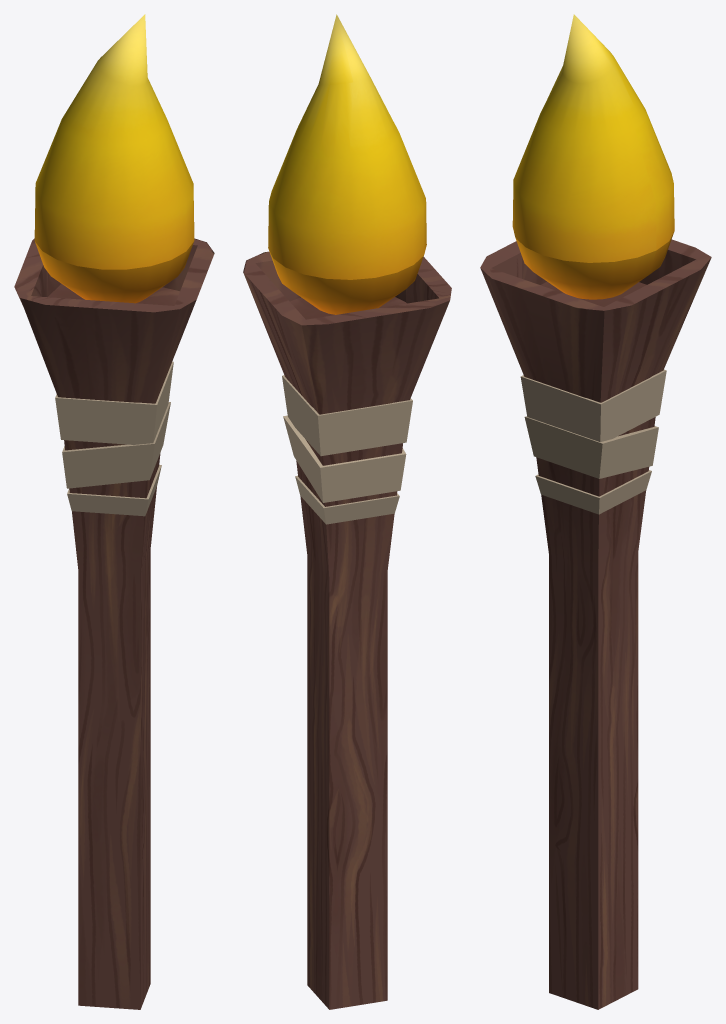
File: torch.gltf
3 renders of one model, left to right at view 1: azimuth 30°, elevation 25°; view 2: azimuth 150°, elevation 25°; view 3: azimuth 270°, elevation 25°, orthographic. The views are drawn at different scales.
Parts seen in each view (by area): view 1: Torch; view 2: Torch; view 3: Torch.
Part boxes in pixels (<box>): Torch: <box>14,14,214,1009</box>; Torch: <box>243,14,451,1009</box>; Torch: <box>480,14,711,1009</box>.
Size of the model in its own units: 0.0239 by 0.114 by 0.0242.
2 materials, 1 textured.
